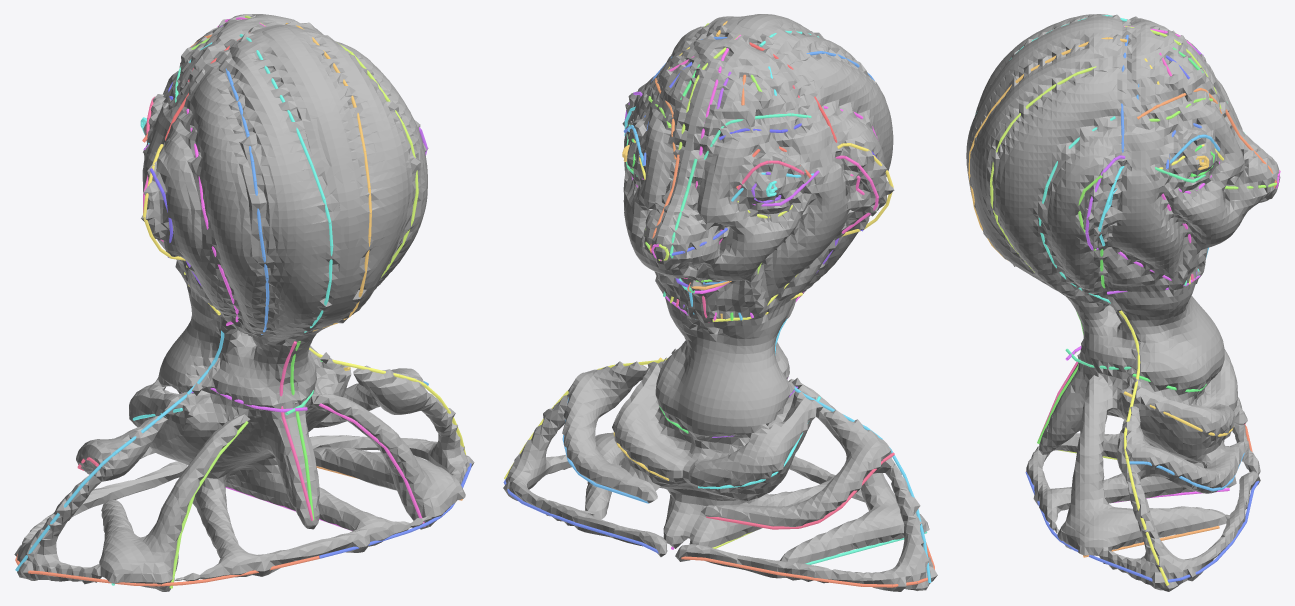
Rendered from author1_bust.gltf.
The picture shows the model from 3 angles, left to right: view 1: azimuth 30°, elevation 25°; view 2: azimuth 150°, elevation 25°; view 3: azimuth 270°, elevation 25°; orthographic projection. The views are drawn at different scales.
Bounding box in the file's own units: 0.6247 × 0.6908 × 0.4148.
